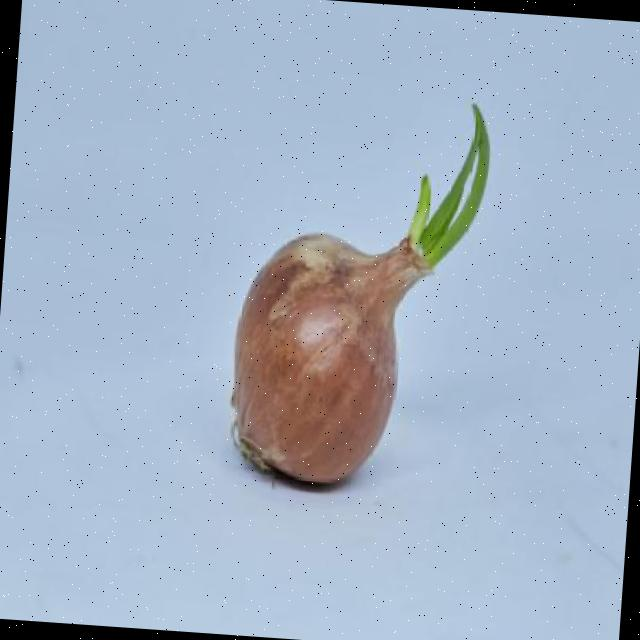Onion: (232, 234, 431, 483)
